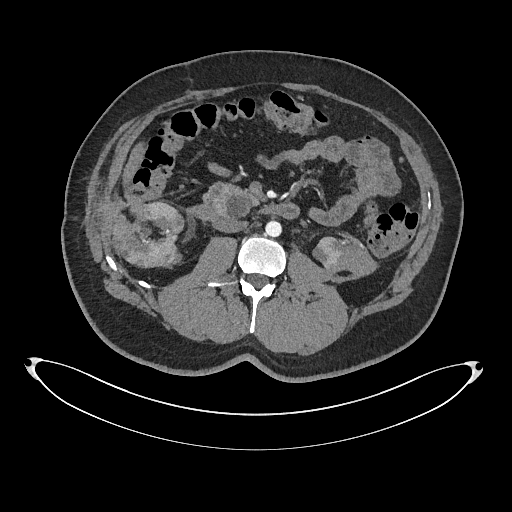Lesion: (333, 237, 378, 278)
